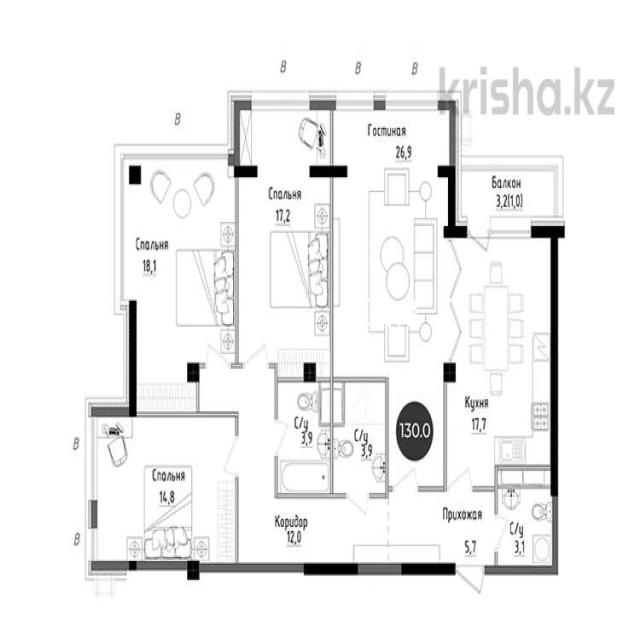balcony: (456, 167, 560, 230)
bathroom: (333, 376, 388, 498), (276, 379, 332, 496), (496, 468, 556, 570)
hallway: (238, 498, 389, 572), (390, 490, 495, 571)
kitchen: (444, 231, 555, 490)
living_room: (332, 107, 448, 376), (239, 104, 332, 378), (121, 160, 236, 368), (90, 416, 238, 566)
